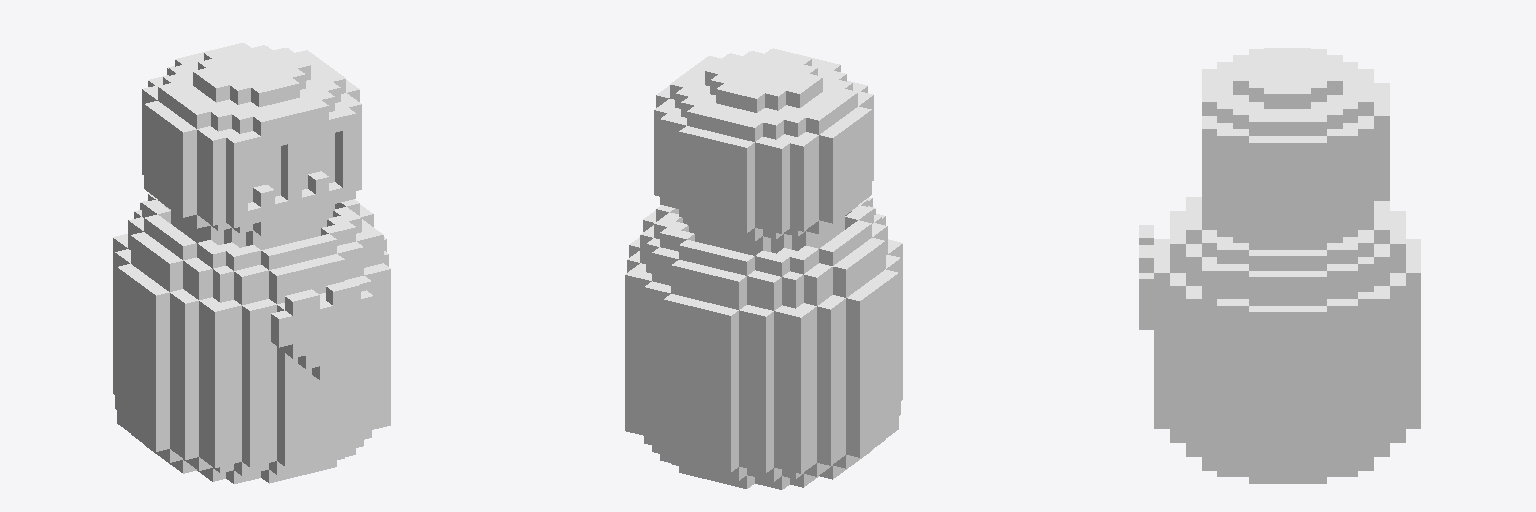
File: Kuri.obj
3 renders of one model, left to right at view 1: azimuth 30°, elevation 25°; view 2: azimuth 150°, elevation 25°; view 3: azimuth 270°, elevation 25°, orthographic.
Size of the model in its own units: 17 by 26 by 18.